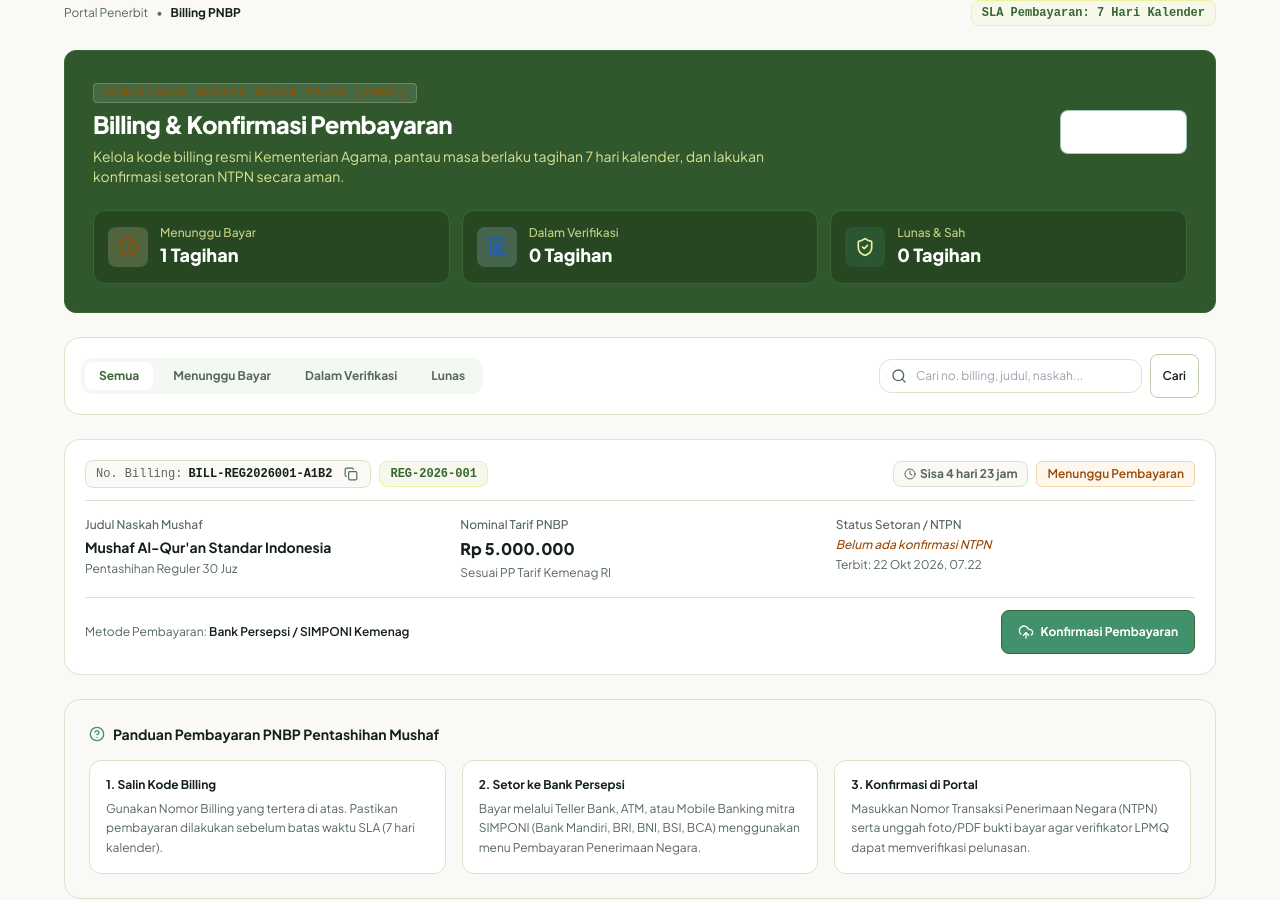
Test: PublisherBillingPage Component › dapat membuka modal konfirmasi pembayaran saat tombol diklik
This screenshot has width=1280, height=900.
Click the button "Konfirmasi Pembayaran": (1098, 632) x1=1002 y1=610 x2=1195 y2=654
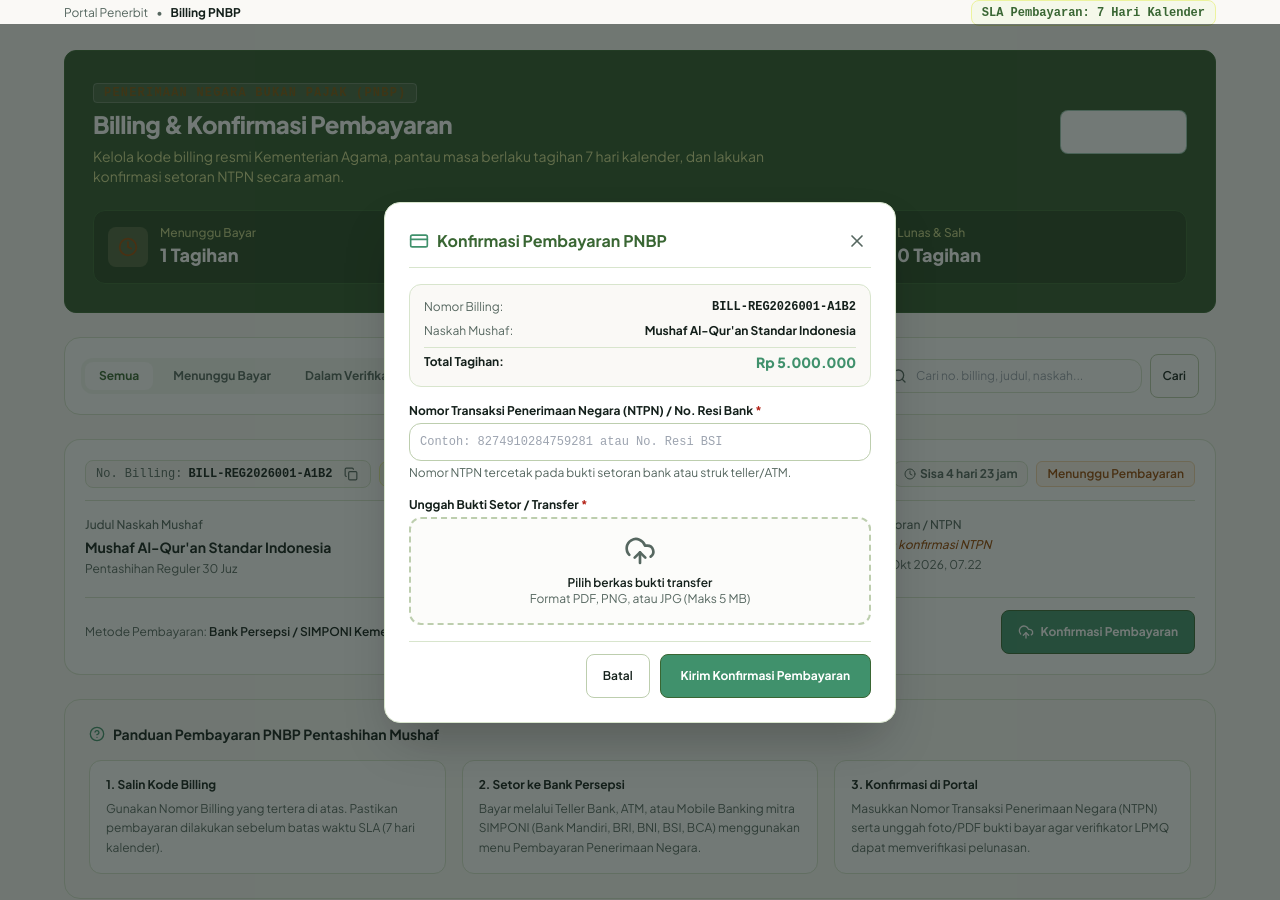
Now the text "Konfirmasi Pembayaran PNBP" is shown, box x1=409 y1=228 x2=667 y2=252
Now the text "Nomor Transaksi Penerimaan Negara (NTPN) / No. Resi Bank *" is shown, box x1=409 y1=402 x2=762 y2=418
